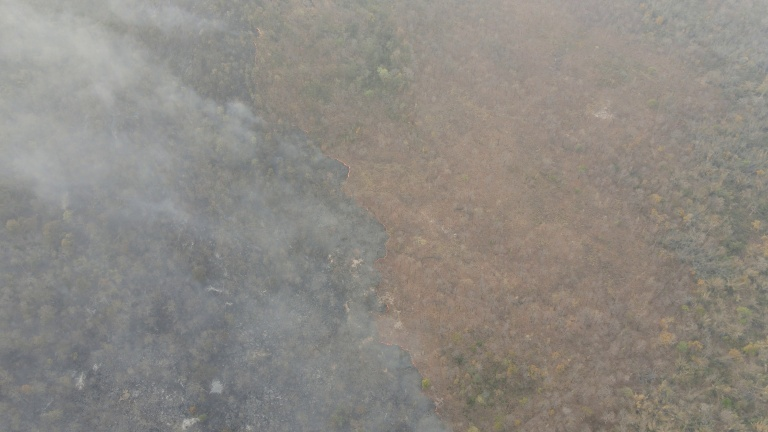smoke: (1, 1, 450, 428)
